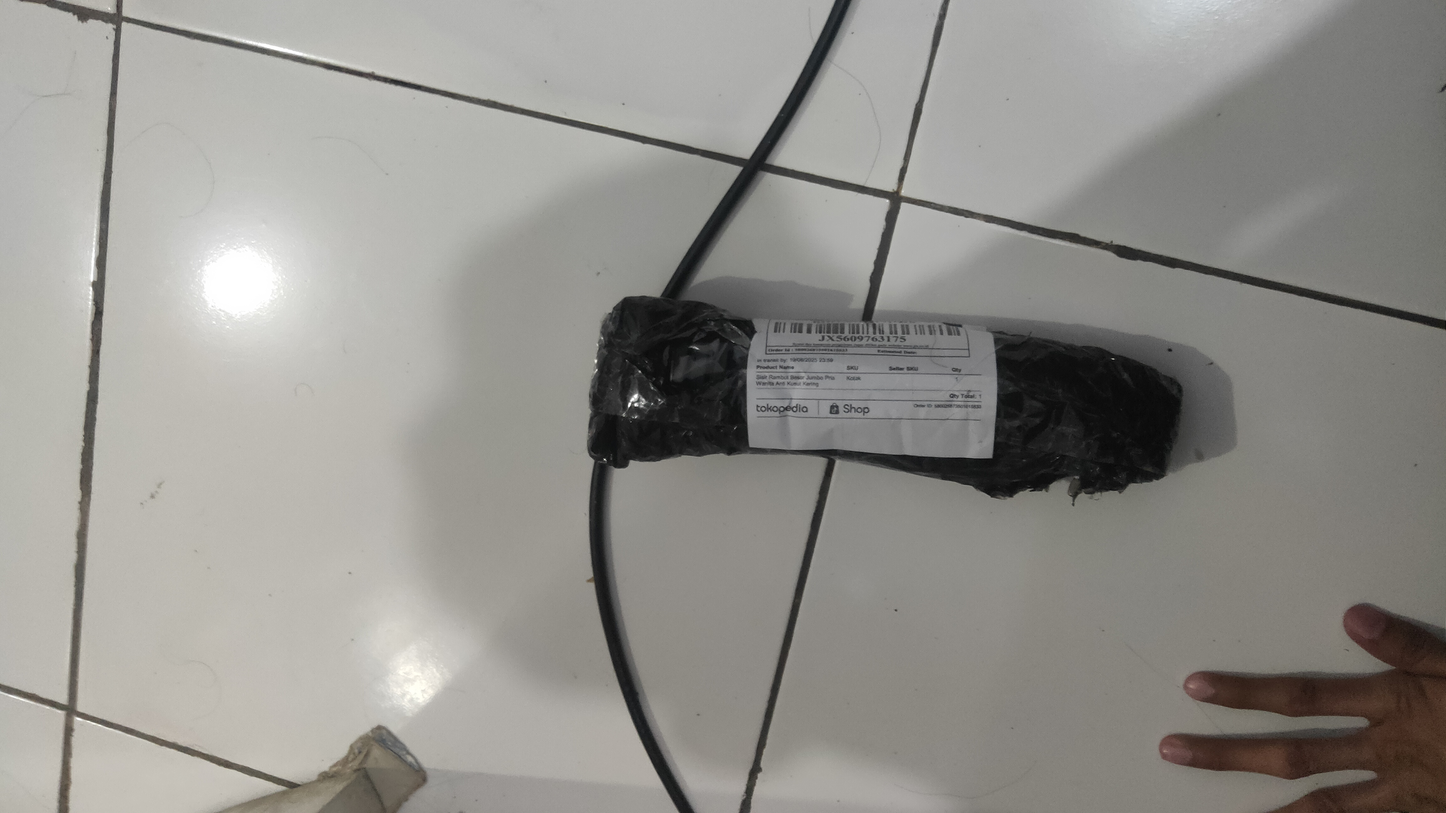damaged package: (633, 334, 749, 390), (992, 473, 1124, 494)
undamaged: (581, 287, 1195, 515)
